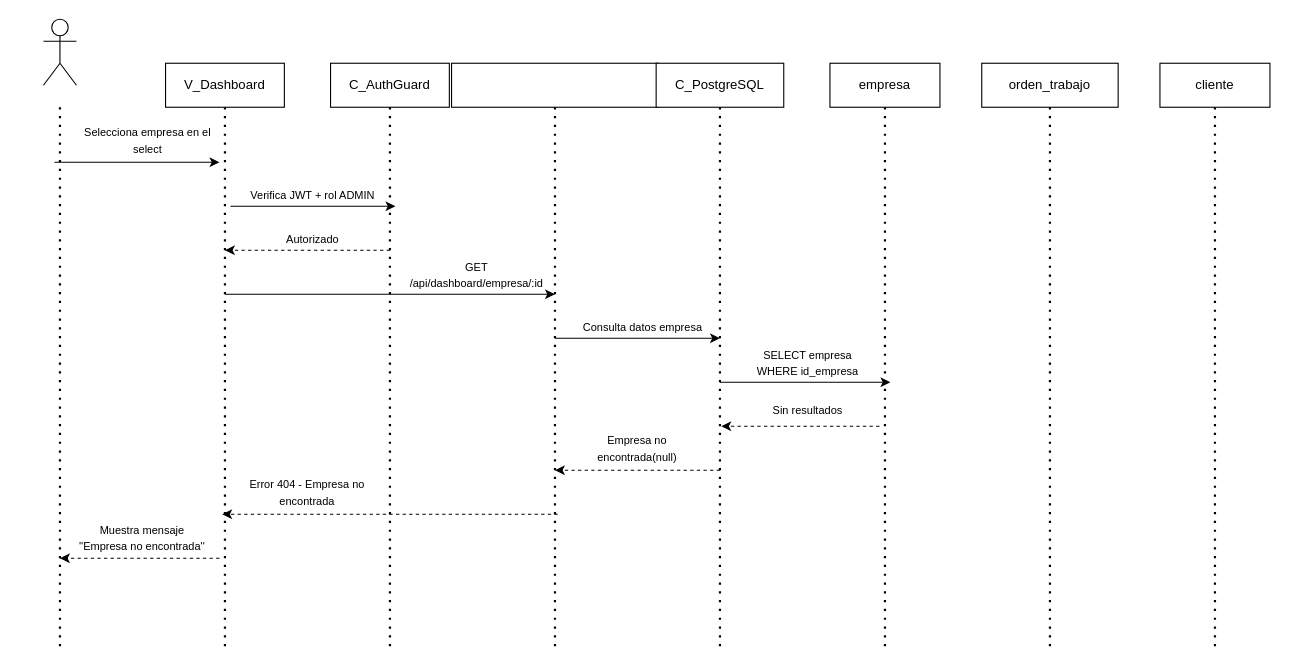
Some shapes in this 1289 by 668 pixel diagram are drawn without their labels. Each missing label, with the centre of its shape:
"Administrador" goes at (59,51).
"C_DashboardController" goes at (554,84).
